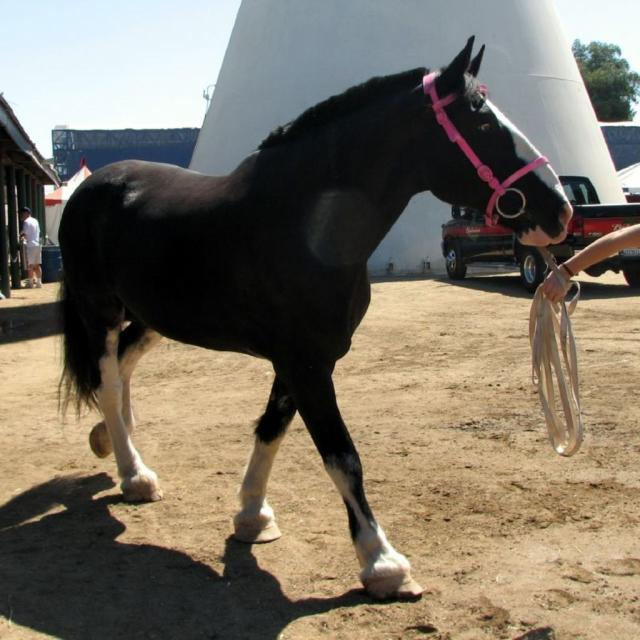Horse: (54, 35, 578, 603)
